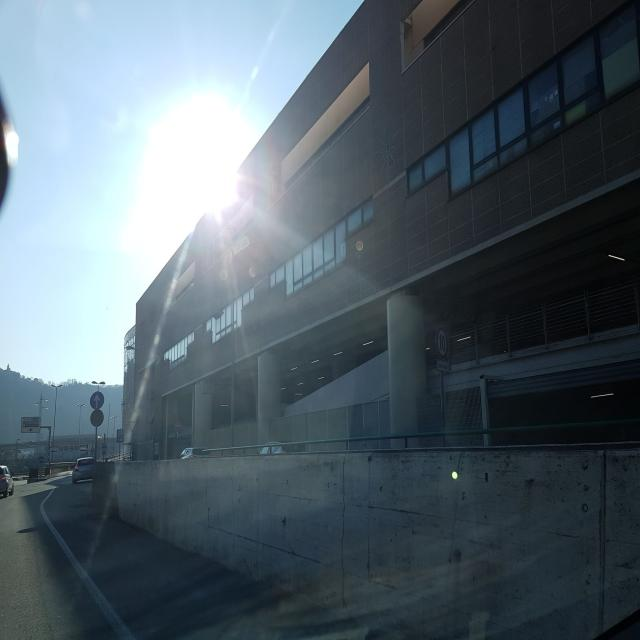car: (72, 457, 96, 484), (0, 464, 14, 499), (179, 446, 213, 459), (259, 444, 283, 456)
